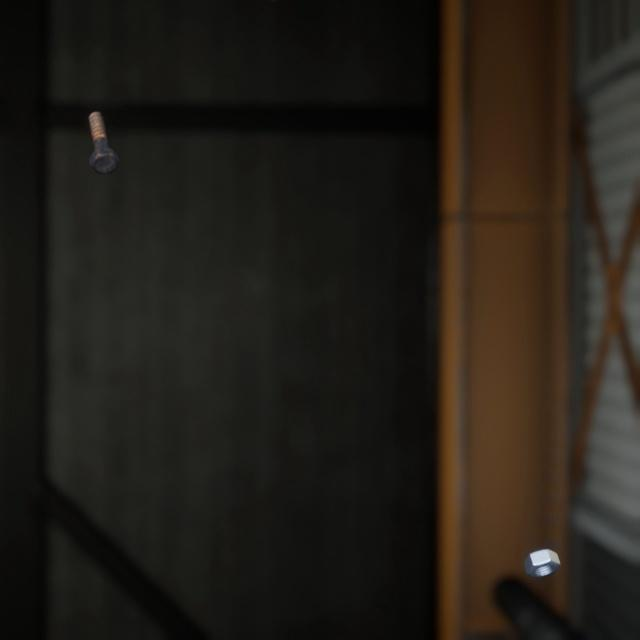bolt: (84, 94, 123, 165)
nut: (518, 521, 565, 560)
